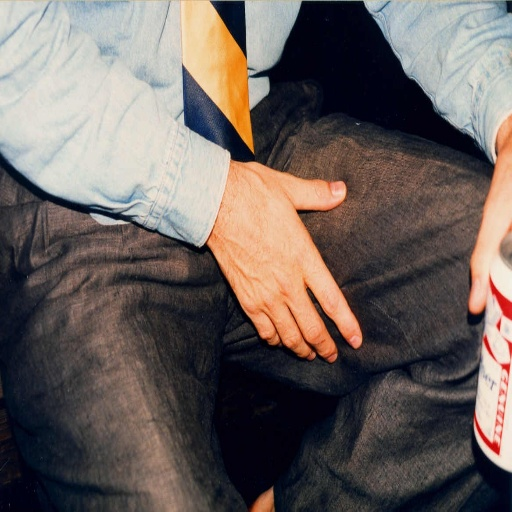hand: (206, 161, 362, 364), (469, 133, 511, 312)
